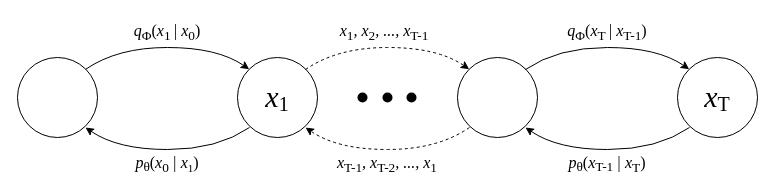
Image size: 775x196. Some labels were removed from this diagram. The box of each missing label's shape, as (x1, y1, x2, y2) in pixels:
x 0: (16, 56, 98, 138)
x T-1: (456, 56, 538, 138)
